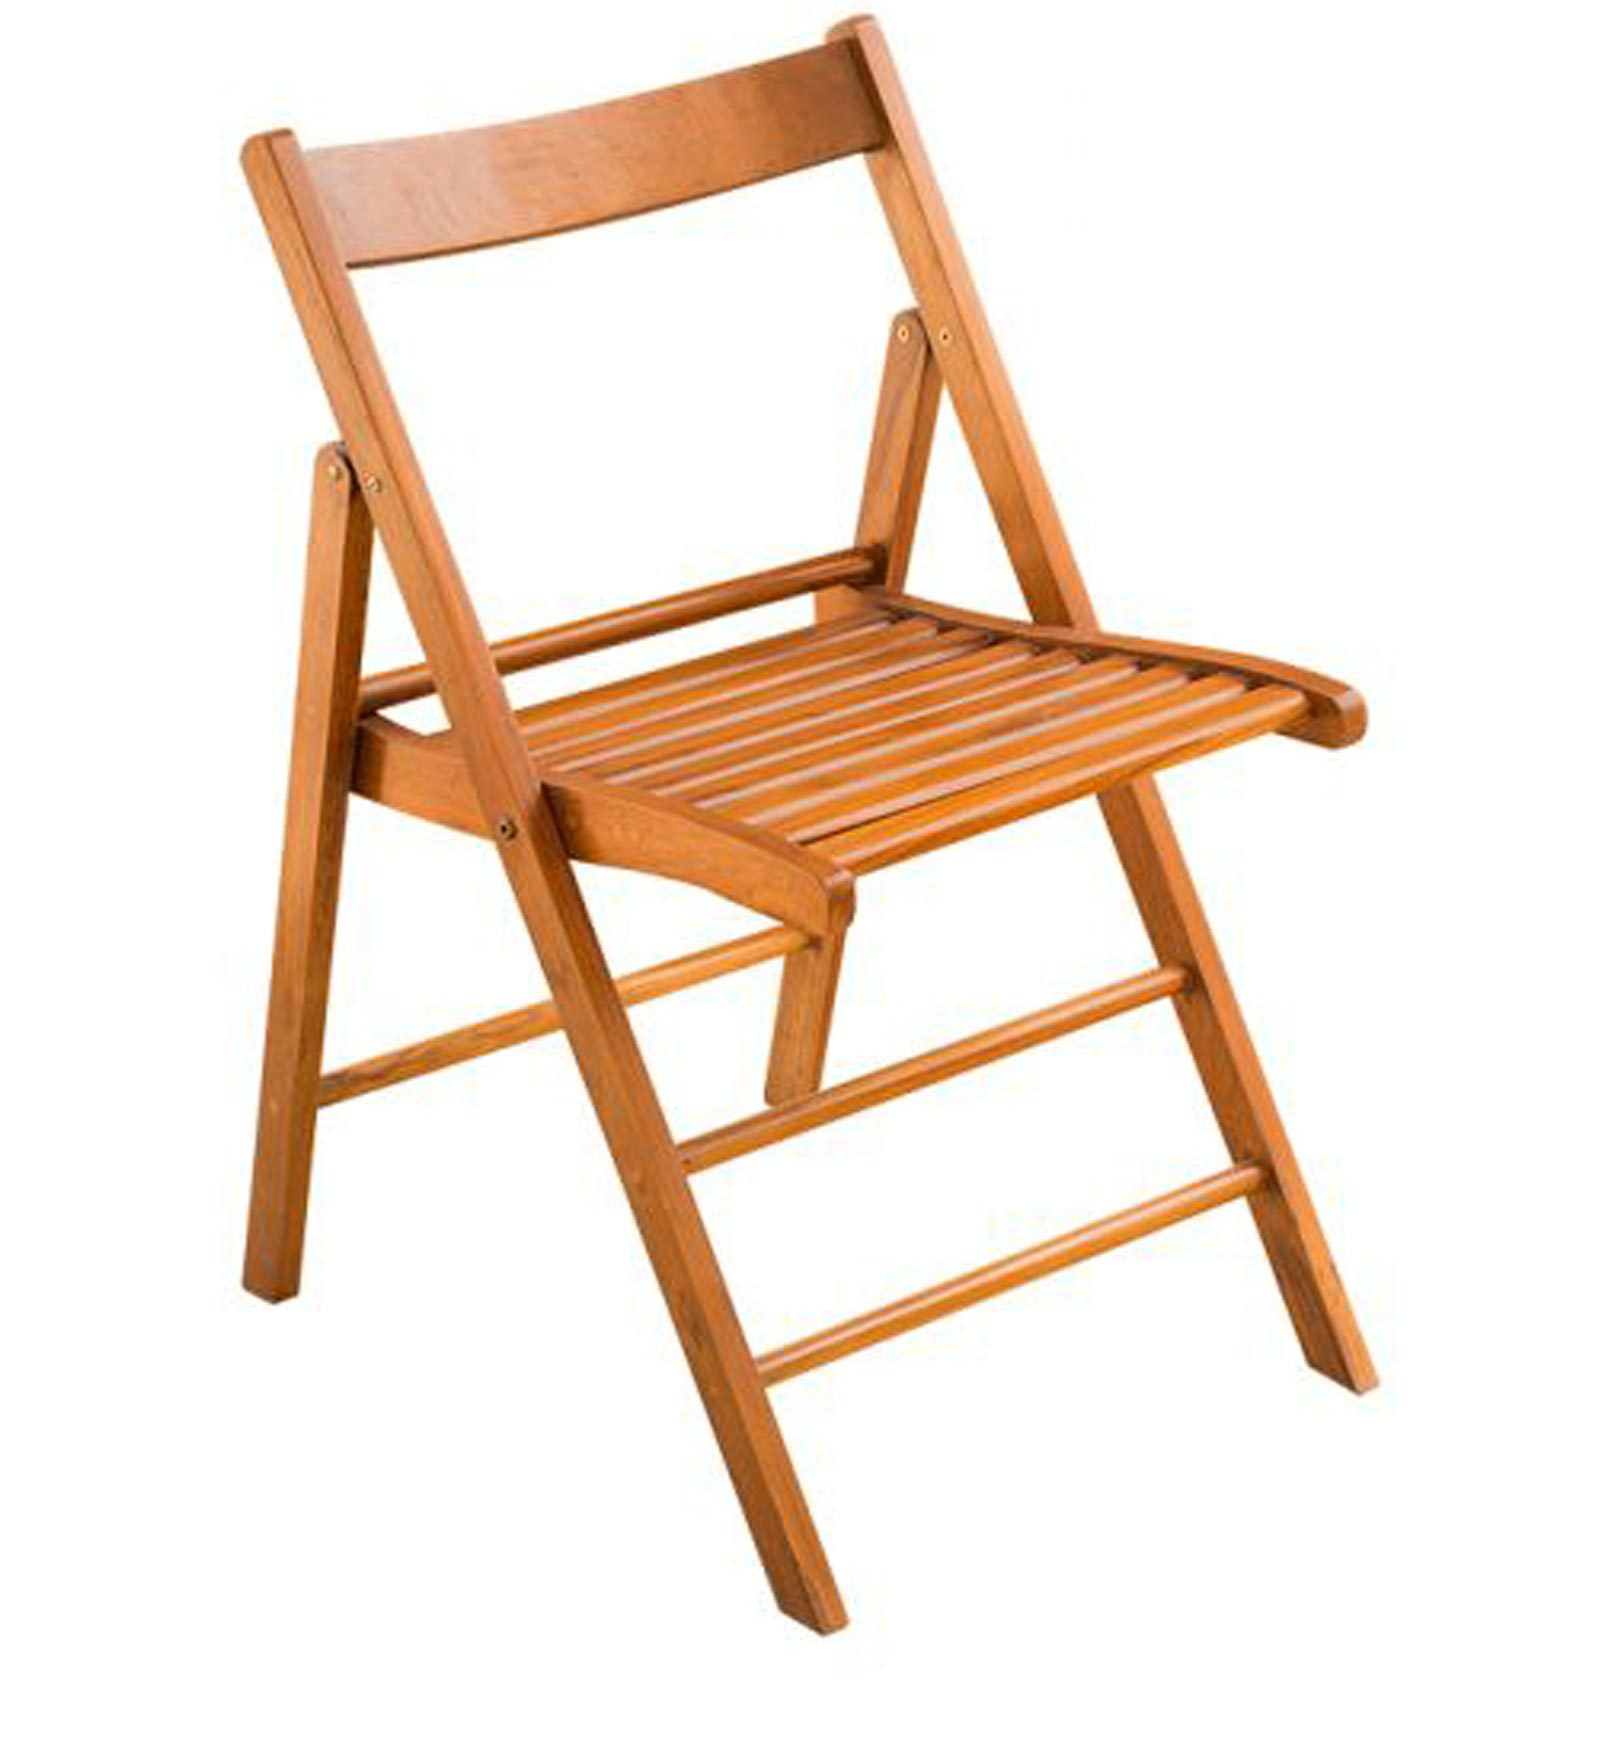Aspen Folding Chair by InLiving: (110, 20, 1436, 1657)
